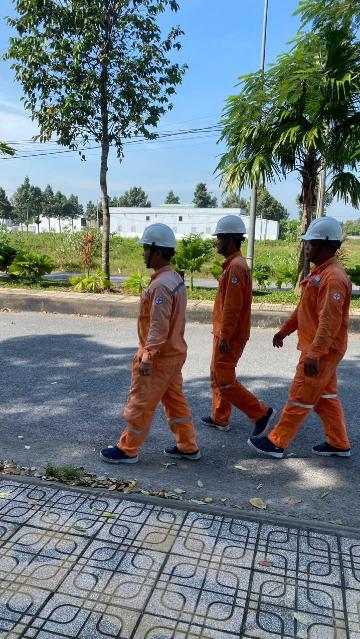helmet: (212, 203, 256, 245), (128, 218, 180, 253), (304, 213, 347, 246)
shoes: (91, 437, 141, 469), (236, 433, 289, 462), (304, 438, 358, 463), (249, 400, 275, 439), (167, 442, 202, 465), (200, 412, 233, 434)
